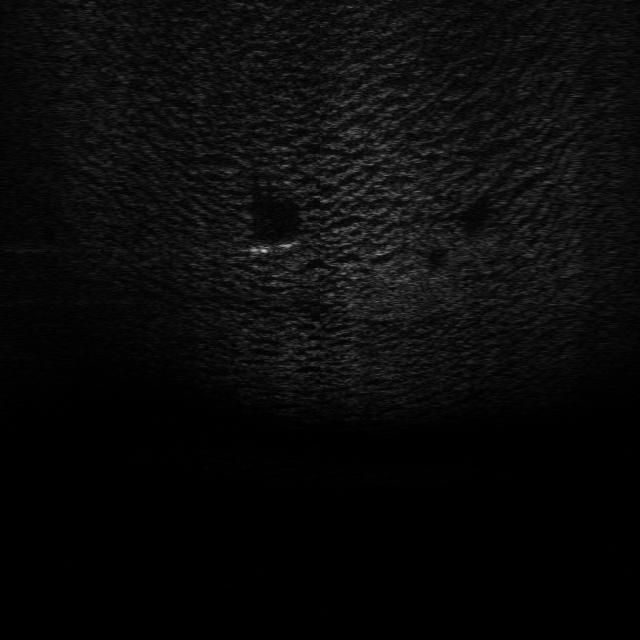plane: (246, 236, 303, 260)
